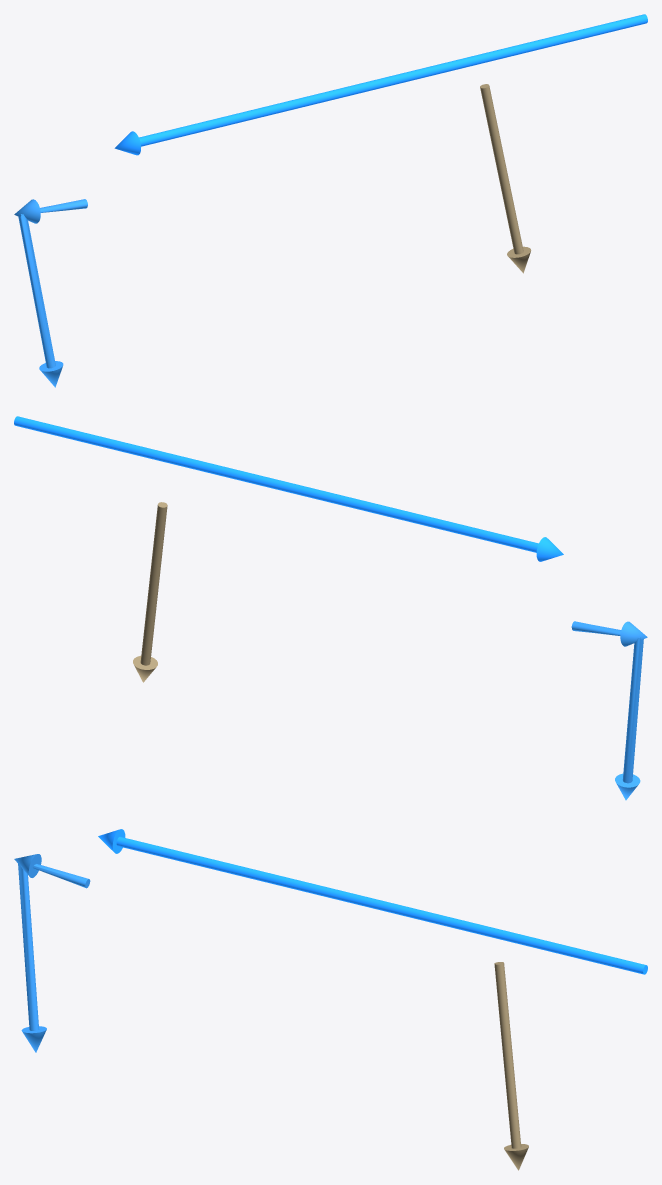
The model's file is decanter_centrifuge_flow.glb.
The picture shows the model from 3 angles, top to bottom: view 1: azimuth 30°, elevation 25°; view 2: azimuth 150°, elevation 25°; view 3: azimuth 330°, elevation 25°; orthographic projection. The views are drawn at different scales.
Parts seen in each view (by area): view 1: feed, centrate, cake; view 2: feed, centrate, cake; view 3: feed, centrate, cake.
Boxes of the visible parts, left/top/right/bottom form: feed: left=114, top=14, right=647, bottom=155; centrate: left=14, top=199, right=87, bottom=387; cake: left=480, top=84, right=531, bottom=273; feed: left=14, top=416, right=563, bottom=561; centrate: left=571, top=621, right=647, bottom=800; cake: left=133, top=502, right=167, bottom=682; feed: left=98, top=829, right=647, bottom=974; centrate: left=14, top=854, right=90, bottom=1052; cake: left=494, top=962, right=528, bottom=1170.
Size of the model in its own units: 2.26 by 0.8185 by 0.138.
